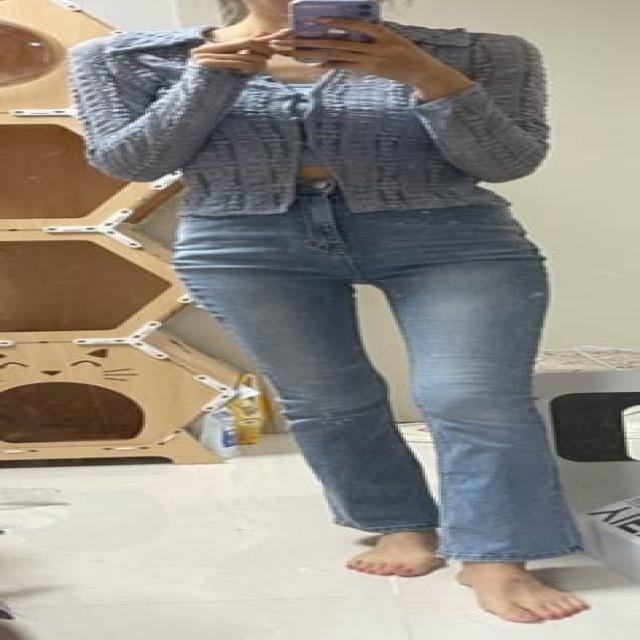cardigan: (67, 20, 551, 219)
denimpants: (178, 187, 586, 569)
